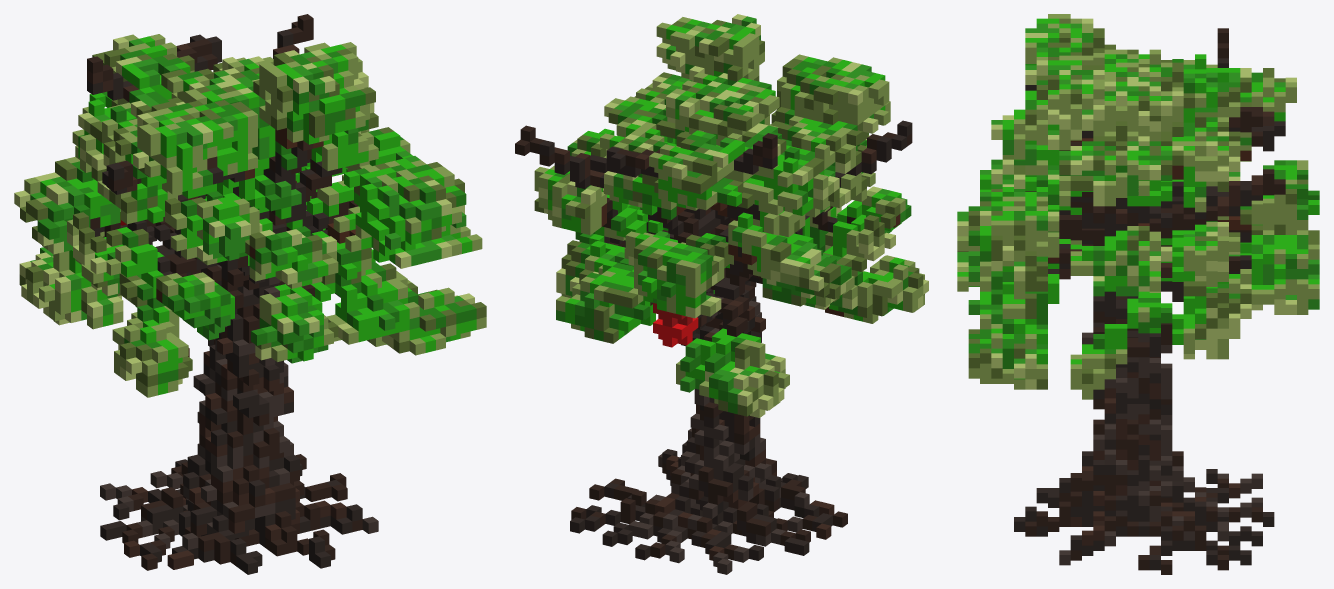
File: tree_big.obj
The picture shows the model from 3 angles, left to right: view 1: azimuth 30°, elevation 25°; view 2: azimuth 150°, elevation 25°; view 3: azimuth 270°, elevation 25°; orthographic projection. The views are drawn at different scales.
Parts seen in each view (by area): view 1: tree_big; view 2: tree_big; view 3: tree_big.
Boxes of the visible parts, bbox=[...] form: tree_big: bbox=[14, 14, 486, 574]; tree_big: bbox=[515, 14, 928, 574]; tree_big: bbox=[957, 14, 1319, 574].
Bounding box in the file's own units: 3.2 × 4.5 × 3.2.
Materials: 1 (1 with a texture image).
